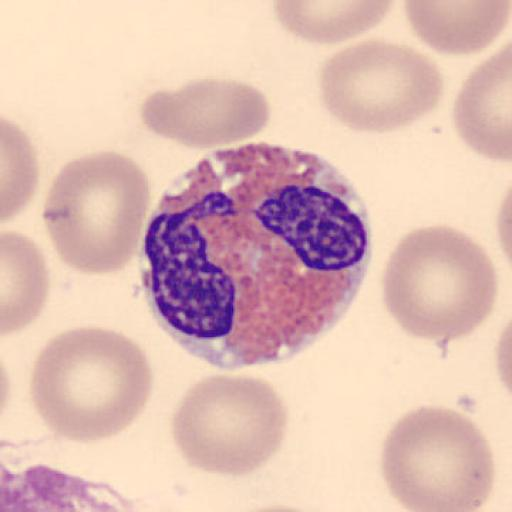RBC: (30, 323, 155, 444), (40, 148, 152, 277), (380, 222, 498, 344), (379, 403, 497, 512), (169, 372, 290, 478), (316, 38, 445, 135), (135, 76, 272, 151), (451, 44, 512, 165), (402, 0, 511, 56), (271, 0, 399, 44), (2, 228, 52, 338), (1, 113, 40, 226), (495, 187, 512, 271), (495, 322, 512, 399), (216, 502, 339, 512)
WBC: (140, 142, 373, 372), (0, 463, 156, 511)
